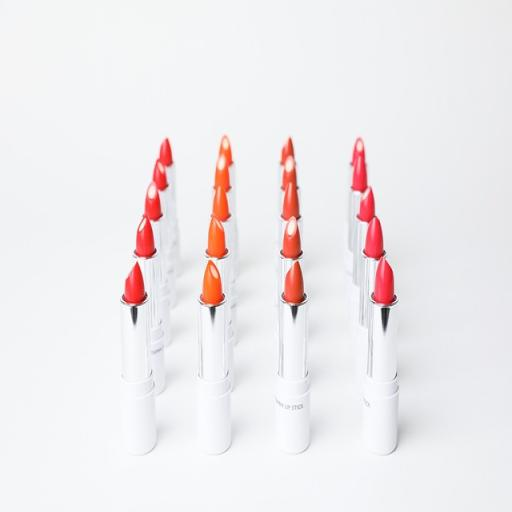lipstick: (363, 257, 399, 454), (120, 263, 156, 454), (276, 262, 310, 453), (198, 262, 231, 454), (354, 217, 386, 391), (134, 215, 165, 394), (205, 216, 235, 390), (145, 183, 175, 346), (350, 188, 375, 333), (153, 160, 179, 282), (212, 188, 236, 306), (345, 149, 367, 274), (160, 138, 179, 275), (220, 135, 238, 272), (277, 216, 303, 303), (278, 182, 303, 243), (218, 135, 235, 215), (279, 155, 300, 209), (278, 137, 294, 187), (350, 137, 365, 167)
